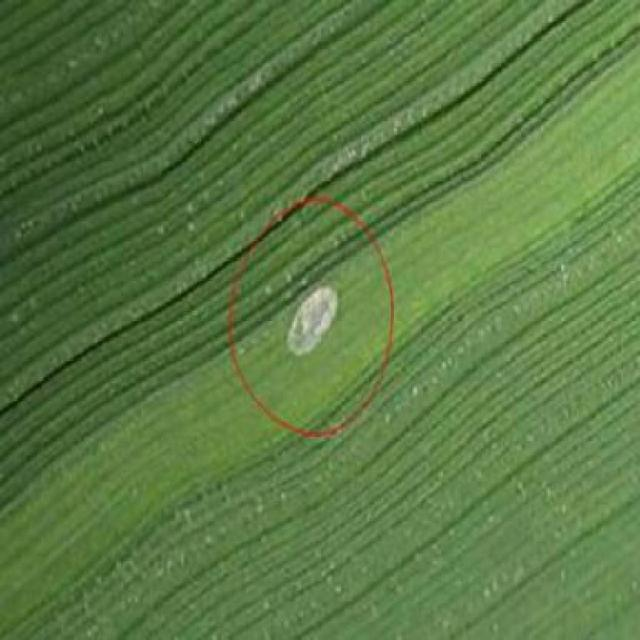leaf-folder: (269, 275, 353, 390)
